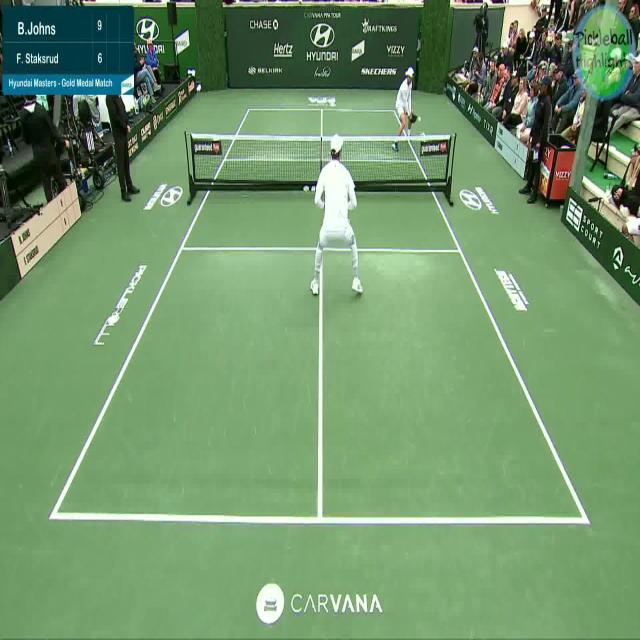Court: (52, 108, 585, 520)
ball: (417, 117, 424, 127)
